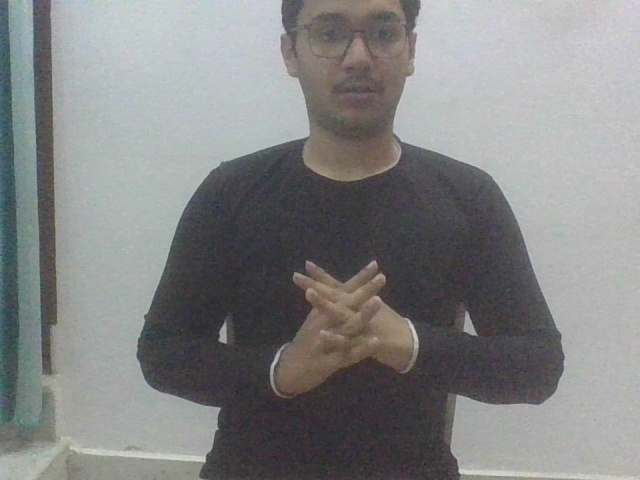W: (271, 254, 418, 402)
